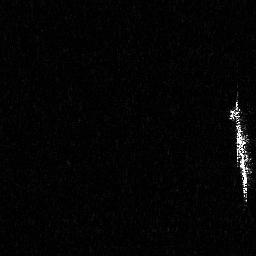ship: (226, 83, 256, 206)
